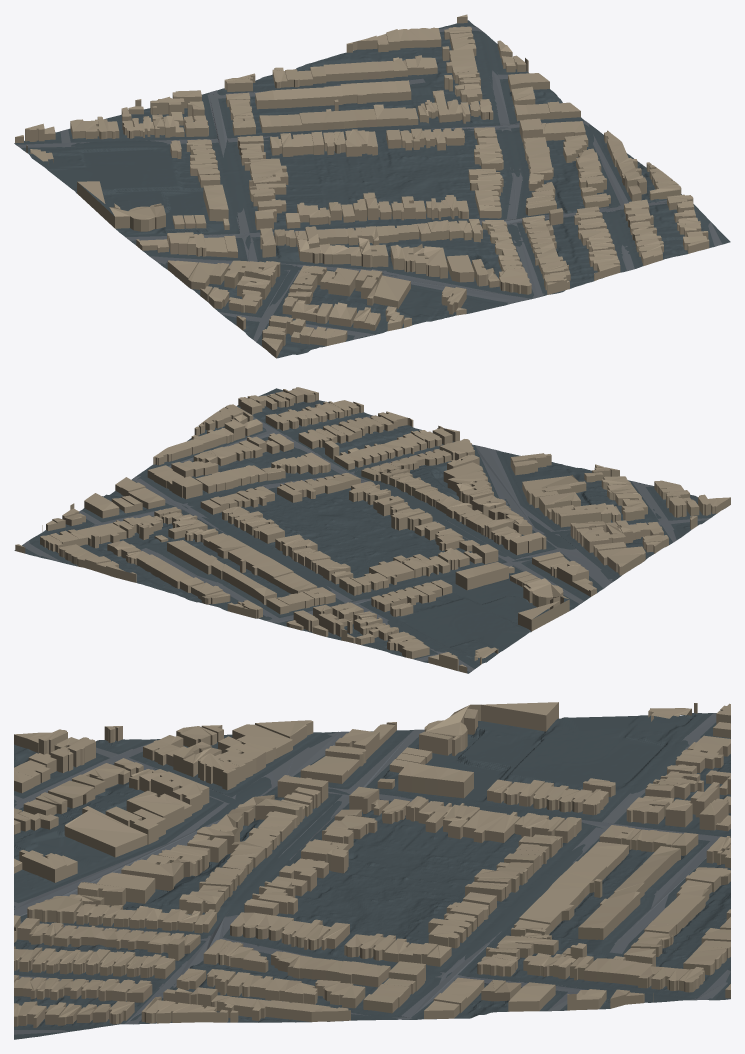
Rendered from epsg26910-1429-10869.lod0.glb.
3 renders of one model, top to bottom at view 1: azimuth 30°, elevation 25°; view 2: azimuth 150°, elevation 25°; view 3: azimuth 270°, elevation 25°, orthographic. The views are drawn at different scales.
Parts seen in each view (by area): view 1: epsg26910-1429-10869-lod0; view 2: epsg26910-1429-10869-lod0; view 3: epsg26910-1429-10869-lod0.
Part boxes in pixels (x1,y1,x2,y2): epsg26910-1429-10869-lod0: (14, 14, 730, 358); epsg26910-1429-10869-lod0: (14, 387, 730, 673); epsg26910-1429-10869-lod0: (14, 702, 730, 1039).
Bounding box in the file's own units: 384 × 38.33 × 384.
